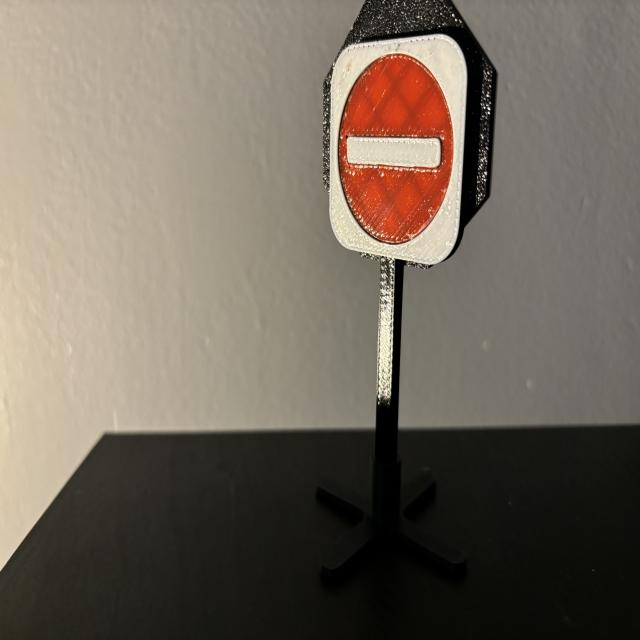sign_noentry: (330, 36, 468, 267)
